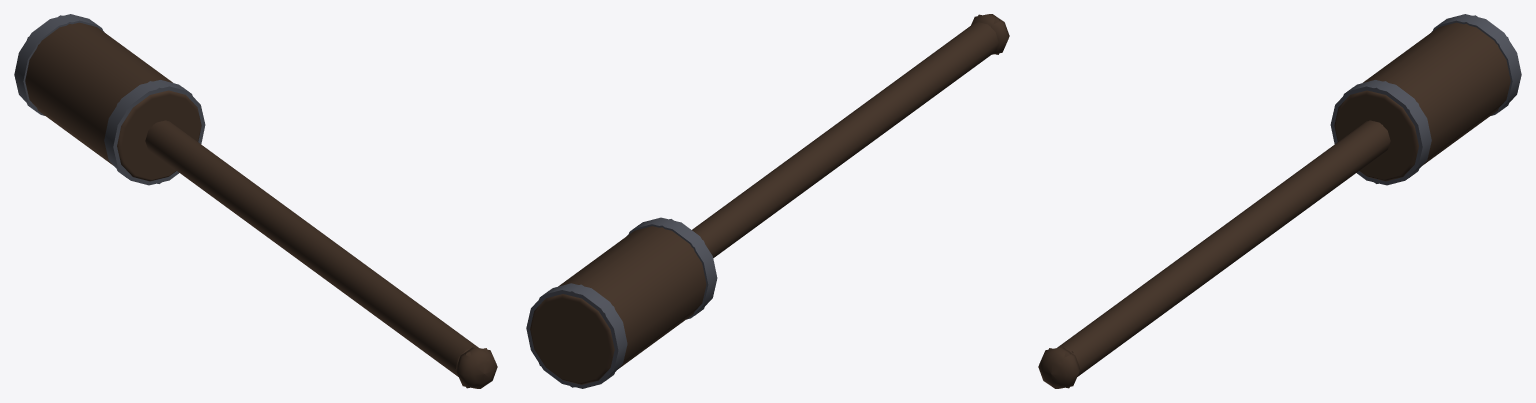
Rendered from m_mallet.glb.
3 views of the same model, side by side, from view 1: azimuth 30°, elevation 25°; view 2: azimuth 150°, elevation 25°; view 3: azimuth 330°, elevation 25° (orthographic).
Visible parts, largest first — view 1: L0, L1; view 2: L0, L1; view 3: L0, L1.
Part boxes in pixels (box(x1,y1,x2,y2)): L0: box(14, 14, 497, 388); L1: box(24, 15, 496, 388); L0: box(526, 14, 1009, 388); L1: box(526, 14, 999, 387); L0: box(1038, 14, 1521, 388); L1: box(1039, 15, 1512, 388).
Size of the model in its own units: 0.0936 by 0.0936 by 0.749.
